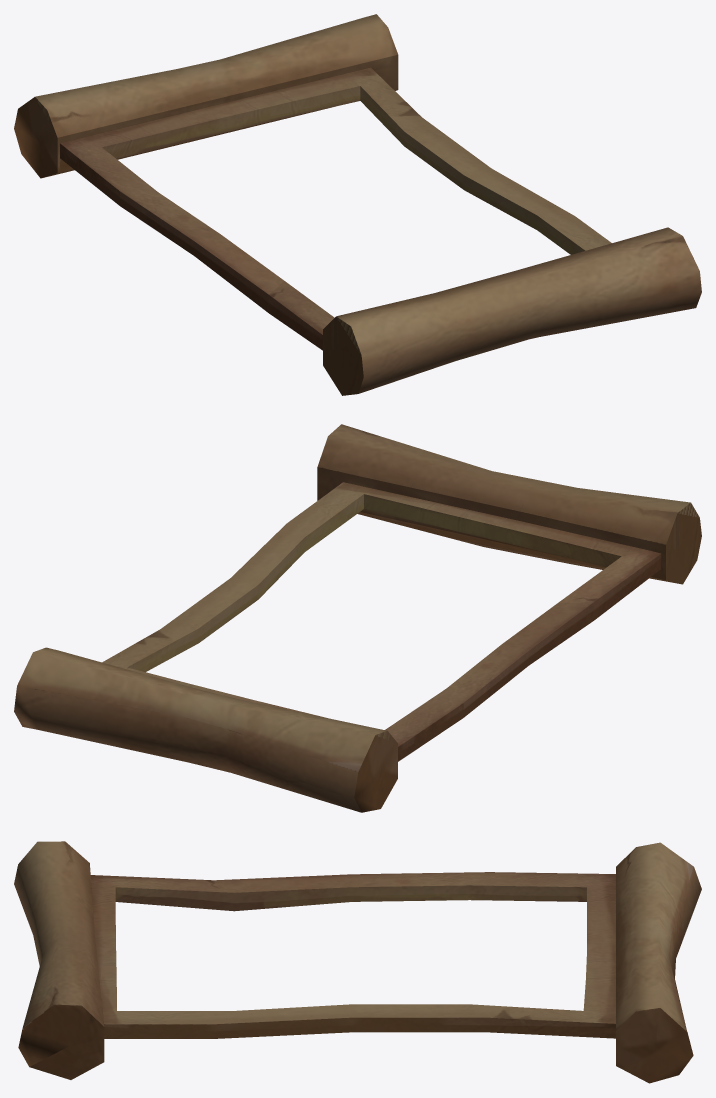
The model's file is MapFrame_smoothed2.fbx.
3 views of the same model, one above another, from view 1: azimuth 30°, elevation 25°; view 2: azimuth 150°, elevation 25°; view 3: azimuth 270°, elevation 25° (orthographic).
Visible parts, largest first — view 1: Map_Frame_Smooth; view 2: Map_Frame_Smooth; view 3: Map_Frame_Smooth.
Part boxes in pixels (bbox=[...]): Map_Frame_Smooth: bbox=[14, 14, 701, 395]; Map_Frame_Smooth: bbox=[14, 424, 701, 812]; Map_Frame_Smooth: bbox=[14, 841, 701, 1083].
Bounding box in the file's own units: 1020 × 226 × 1781.
1 material, 1 textured.
